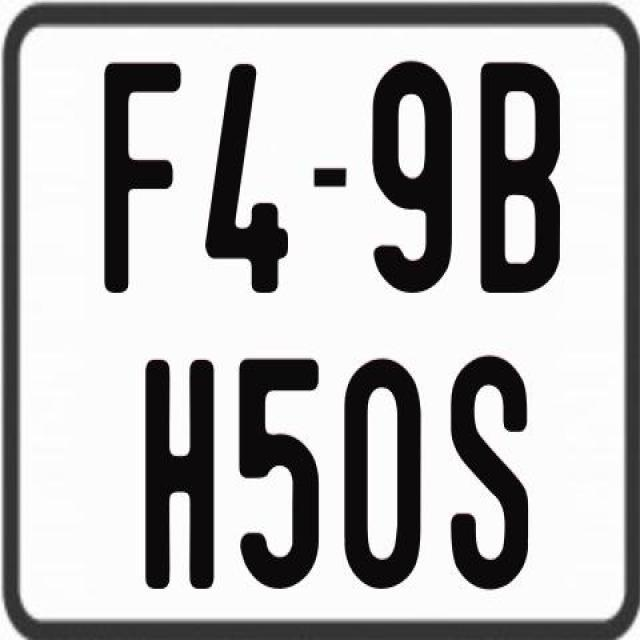0: (342, 354, 424, 594)
4: (202, 63, 290, 294)
5: (236, 358, 323, 596)
9: (370, 59, 458, 291)
B: (480, 59, 564, 291)
F: (101, 63, 183, 300)
H: (144, 360, 218, 589)
S: (450, 354, 534, 596)
